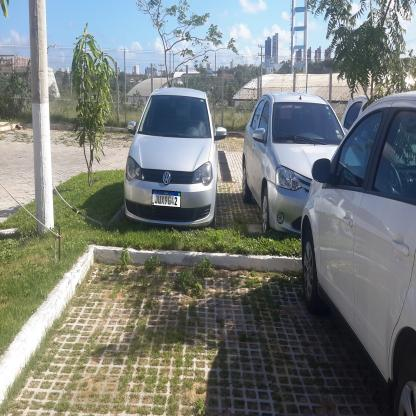PlacaM: (152, 189, 181, 208)
